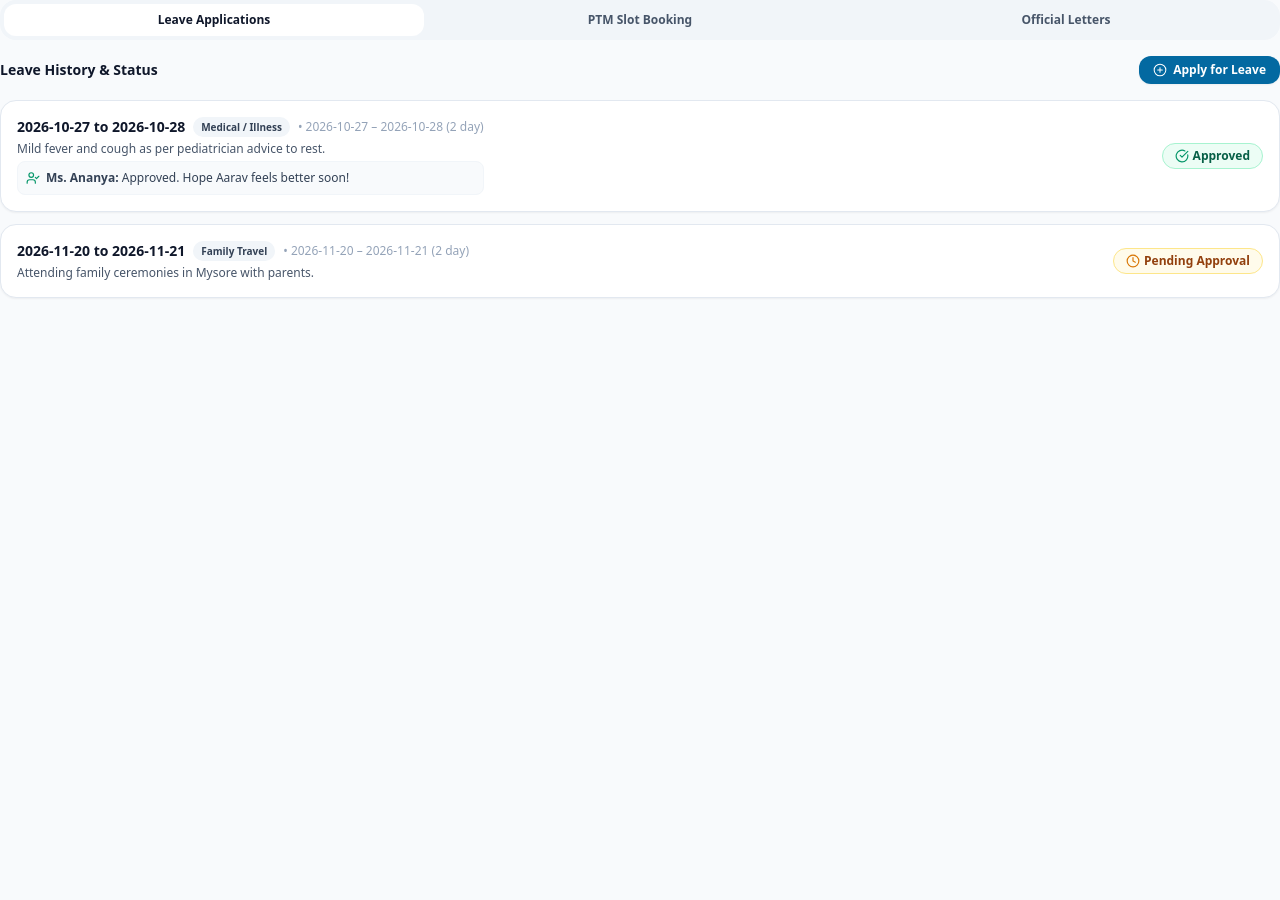
Test: Suite 6: Requests Module & Certificate Generator › generates authentic Bonafide Certificate with printable letterhead
This screenshot has width=1280, height=900.
Note: Switch to certificates tab
Click the button "Official Letters" at (1066, 20), box [856, 4, 1276, 36]
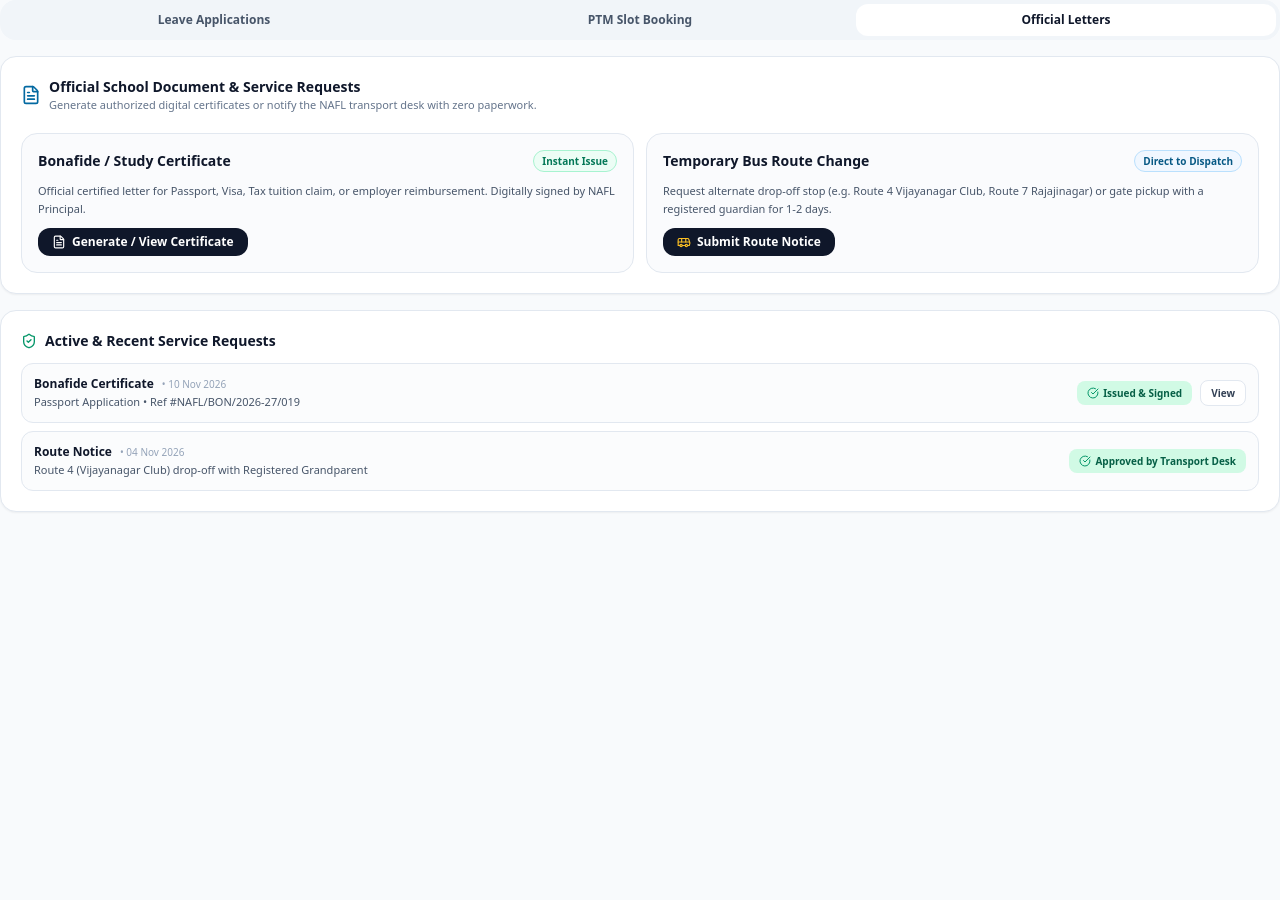
Note: Click generate certificate
Click the button "Generate / View Certificate" at (143, 242), box [38, 228, 248, 256]
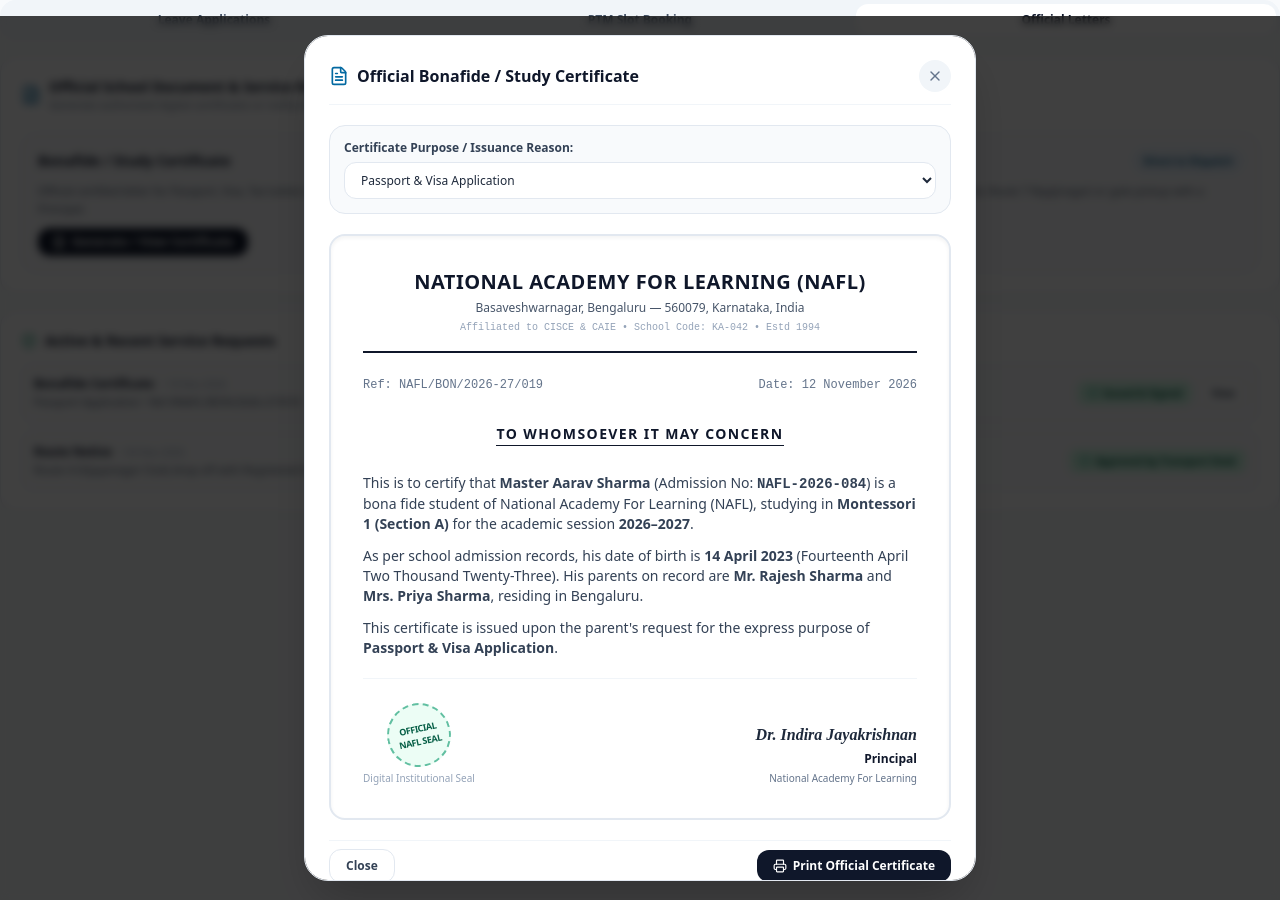
Check: the heading "Official Bonafide / Study Certificate" is shown, box [357, 64, 639, 88]
Check: the text "TO WHOMSOEVER IT MAY CONCERN" is shown, box [496, 424, 784, 446]
Check: the text "Print Official Certificate" is shown, box [793, 858, 935, 874]
